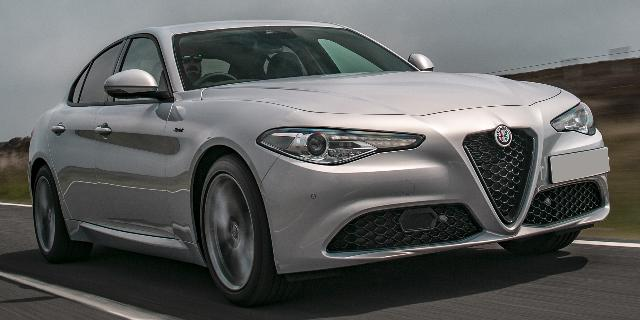alpha-romeo: (28, 18, 610, 306)
